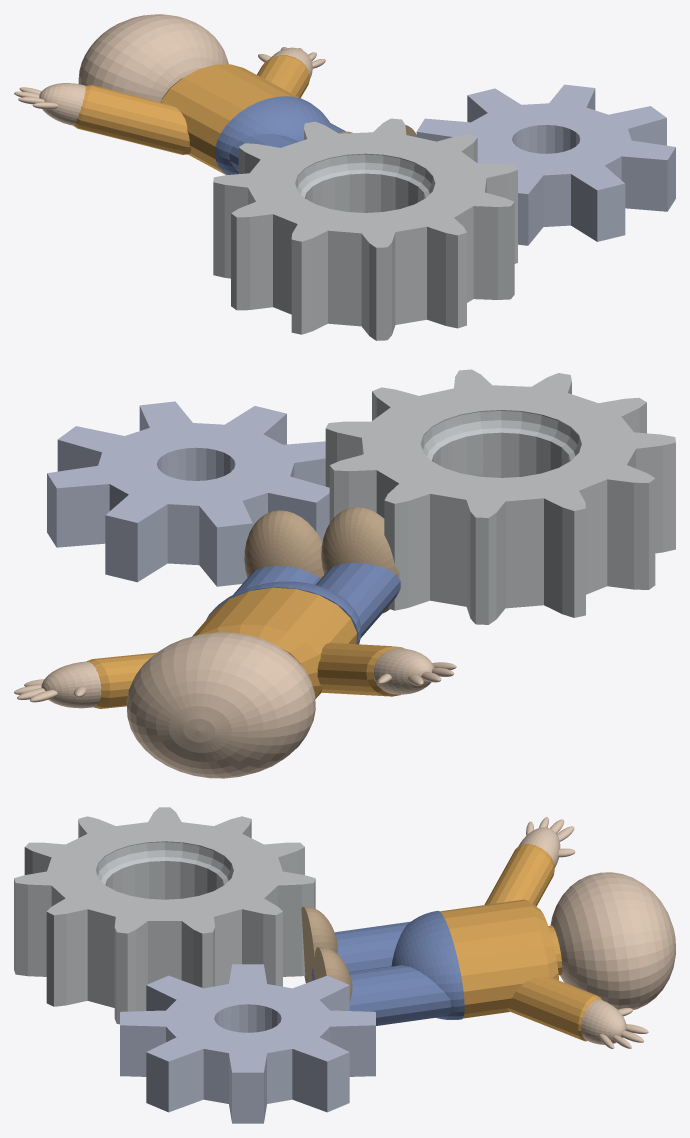
The model's file is asset.glb.
The picture shows the model from 3 angles, top to bottom: view 1: azimuth 30°, elevation 25°; view 2: azimuth 150°, elevation 25°; view 3: azimuth 270°, elevation 25°; orthographic projection. The views are drawn at different scales.
Parts seen in each view (by area): view 1: Mesh_Mesh_head_geo.001_lambert2SG.001; view 2: Mesh_Mesh_head_geo.001_lambert2SG.001; view 3: Mesh_Mesh_head_geo.001_lambert2SG.001.
Boxes of the visible parts, x1,y1,x2,y2 form: Mesh_Mesh_head_geo.001_lambert2SG.001: (14, 14, 675, 340); Mesh_Mesh_head_geo.001_lambert2SG.001: (14, 369, 675, 778); Mesh_Mesh_head_geo.001_lambert2SG.001: (14, 807, 675, 1123).
Bounding box in the file's own units: 49.48 × 11.92 × 58.92.
